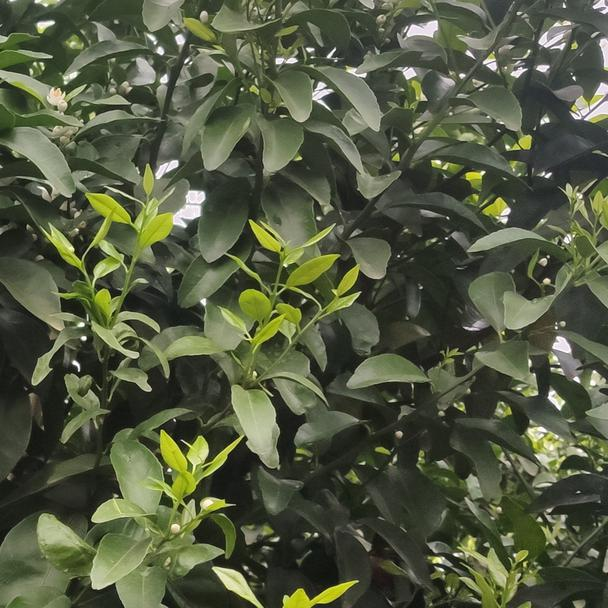shoot: (218, 222, 338, 373), (100, 165, 179, 321), (148, 422, 251, 532), (47, 225, 119, 325)
